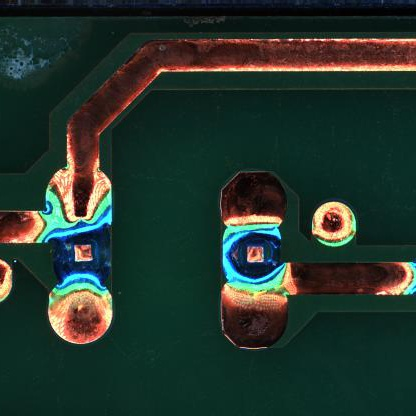spot: (48, 222, 114, 291), (221, 223, 285, 291)
